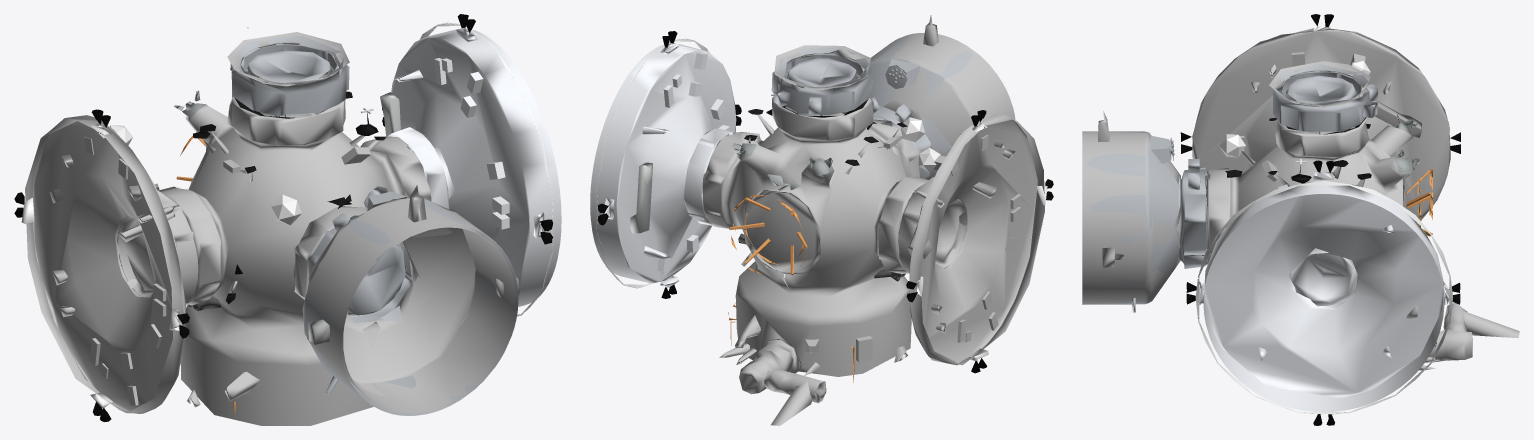
File: tiangong-hub.glb
The picture shows the model from 3 angles, left to right: view 1: azimuth 30°, elevation 25°; view 2: azimuth 150°, elevation 25°; view 3: azimuth 270°, elevation 25°; orthographic projection. The views are drawn at different scales.
Parts seen in each view (by area): view 1: hub; view 2: hub; view 3: hub.
Part boxes in pixels (x1,y1,x2,y2): hub: (14,14,561,425); hub: (590,15,1053,425); hub: (1082,14,1519,425).
Size of the model in its own units: 5.68 by 4.58 by 6.41.
Materials: 1 (1 with a texture image).
